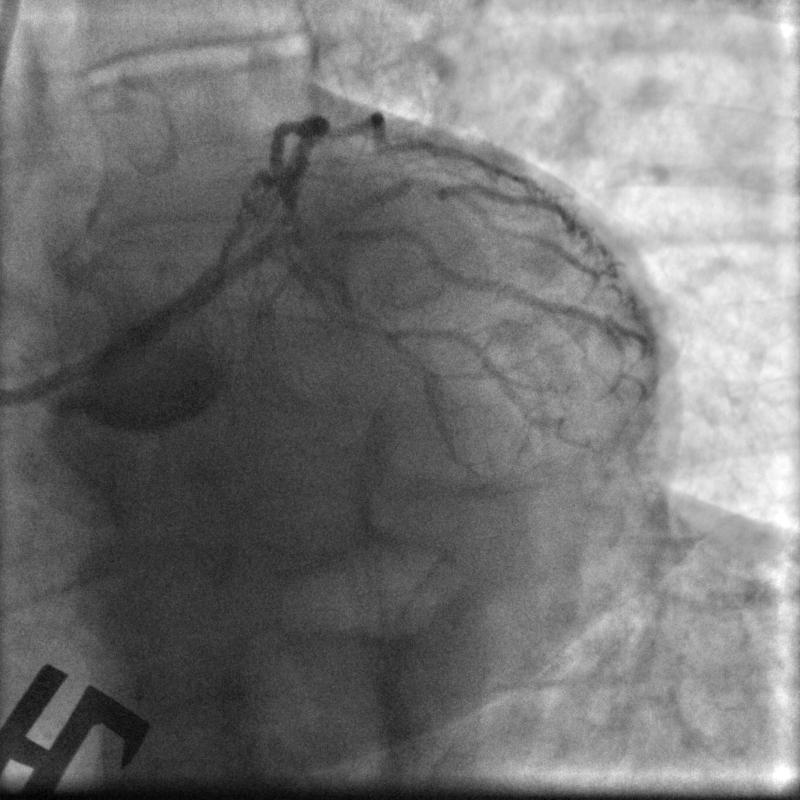Stenosis: (393, 173, 449, 200)
